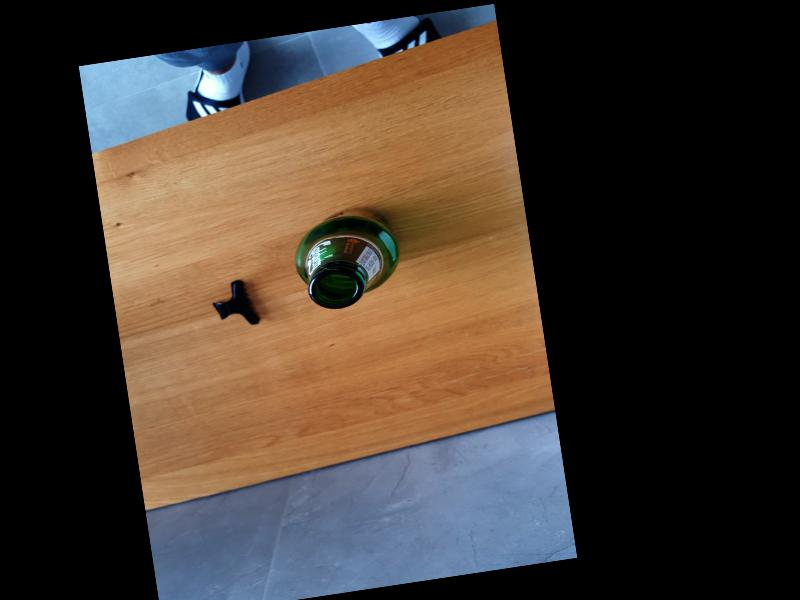Beer: (285, 201, 405, 313)
